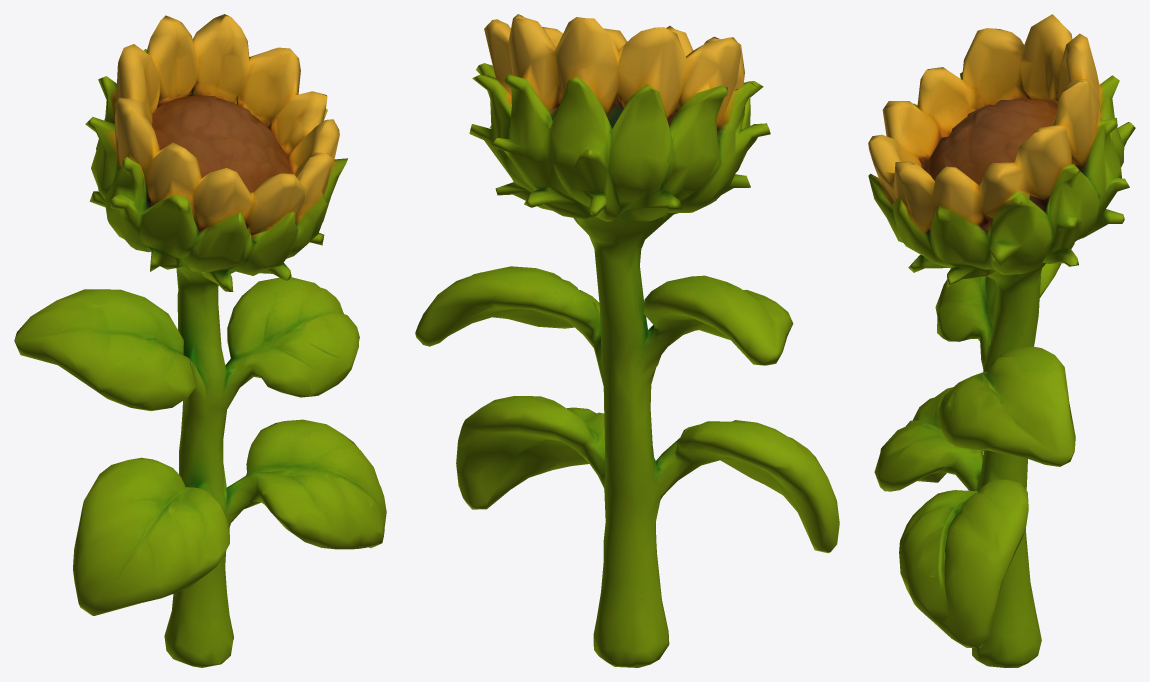
File: sunflower_s4.glb
The picture shows the model from 3 angles, left to right: view 1: azimuth 30°, elevation 25°; view 2: azimuth 150°, elevation 25°; view 3: azimuth 270°, elevation 25°; orthographic projection. The views are drawn at different scales.
Parts seen in each view (by area): view 1: tripo_node_efa0747a-16e6-441b-b7ea-604076cb4614; view 2: tripo_node_efa0747a-16e6-441b-b7ea-604076cb4614; view 3: tripo_node_efa0747a-16e6-441b-b7ea-604076cb4614.
Boxes of the visible parts, x1,y1,x2,y2 form: tripo_node_efa0747a-16e6-441b-b7ea-604076cb4614: [14, 14, 386, 667]; tripo_node_efa0747a-16e6-441b-b7ea-604076cb4614: [415, 14, 839, 667]; tripo_node_efa0747a-16e6-441b-b7ea-604076cb4614: [868, 14, 1135, 667].
Bounding box in the file's own units: 0.5626 × 1 × 0.3894.
1 material, 1 textured.
